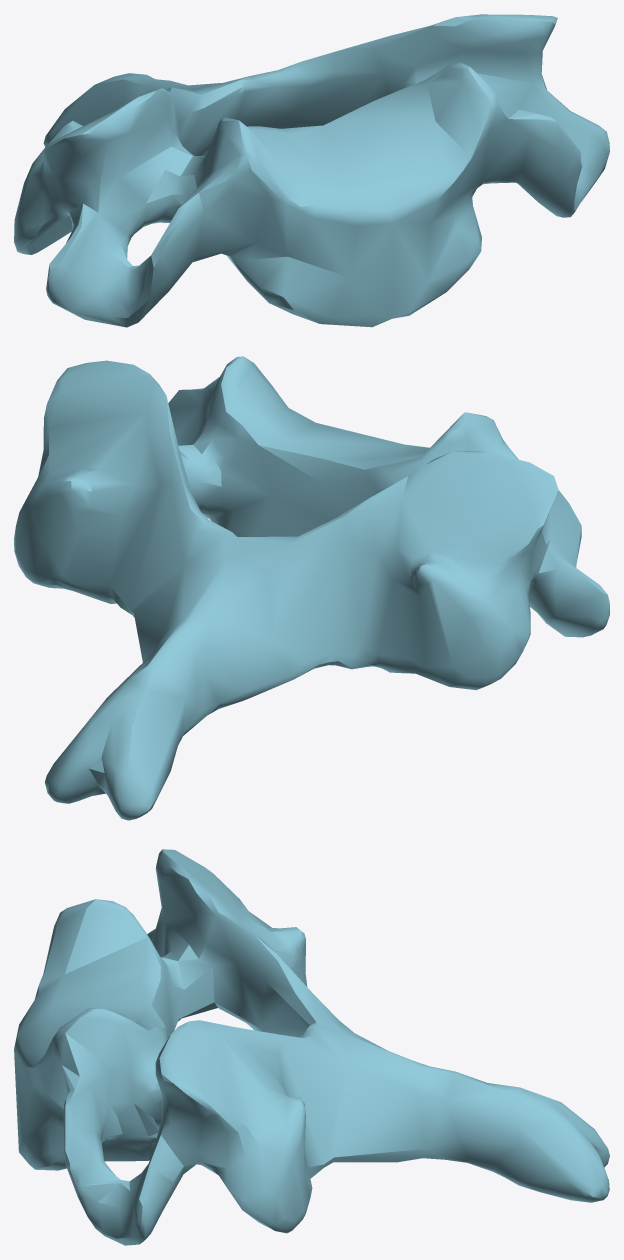
3 views of the same model, one above another, from view 1: azimuth 30°, elevation 25°; view 2: azimuth 150°, elevation 25°; view 3: azimuth 270°, elevation 25° (orthographic). The views are drawn at different scales.
Visible parts, largest first — view 1: grp1; view 2: grp1; view 3: grp1.
Boxes of the visible parts, x1,y1,x2,y2 form: grp1: [14, 14, 609, 327]; grp1: [14, 356, 609, 820]; grp1: [14, 849, 609, 1245].
Size of the model in its own units: 0.058 by 0.0242 by 0.0547.
